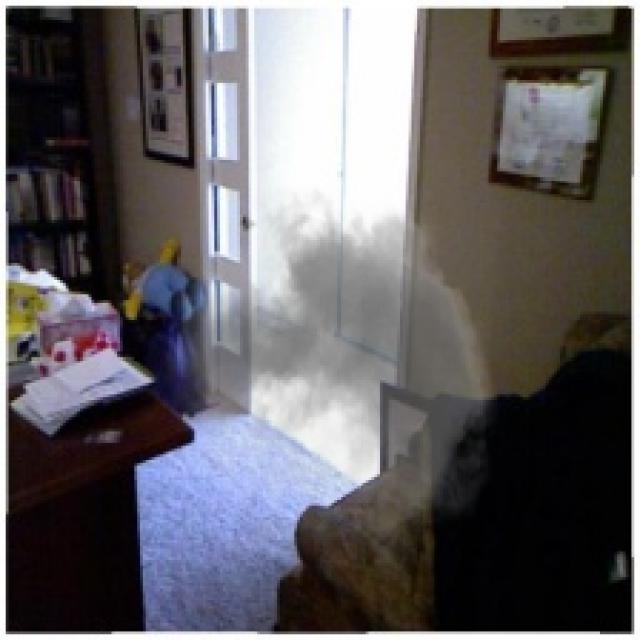smoke: (166, 163, 508, 583)
